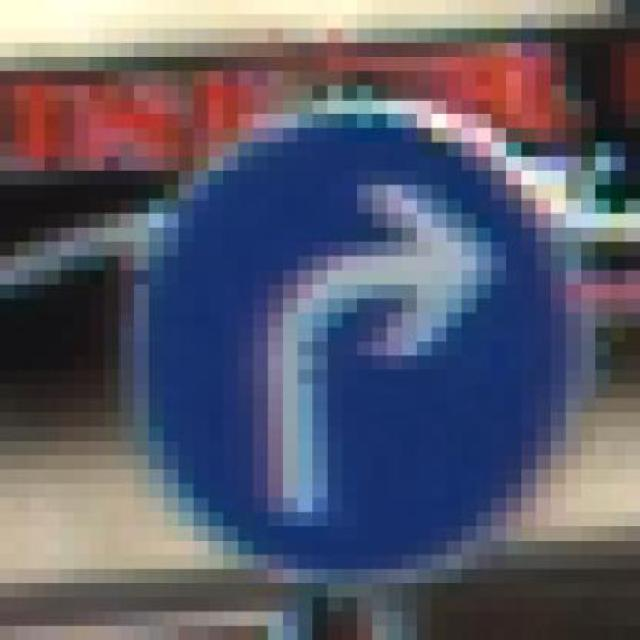Turn right ahead: (134, 99, 611, 584)
